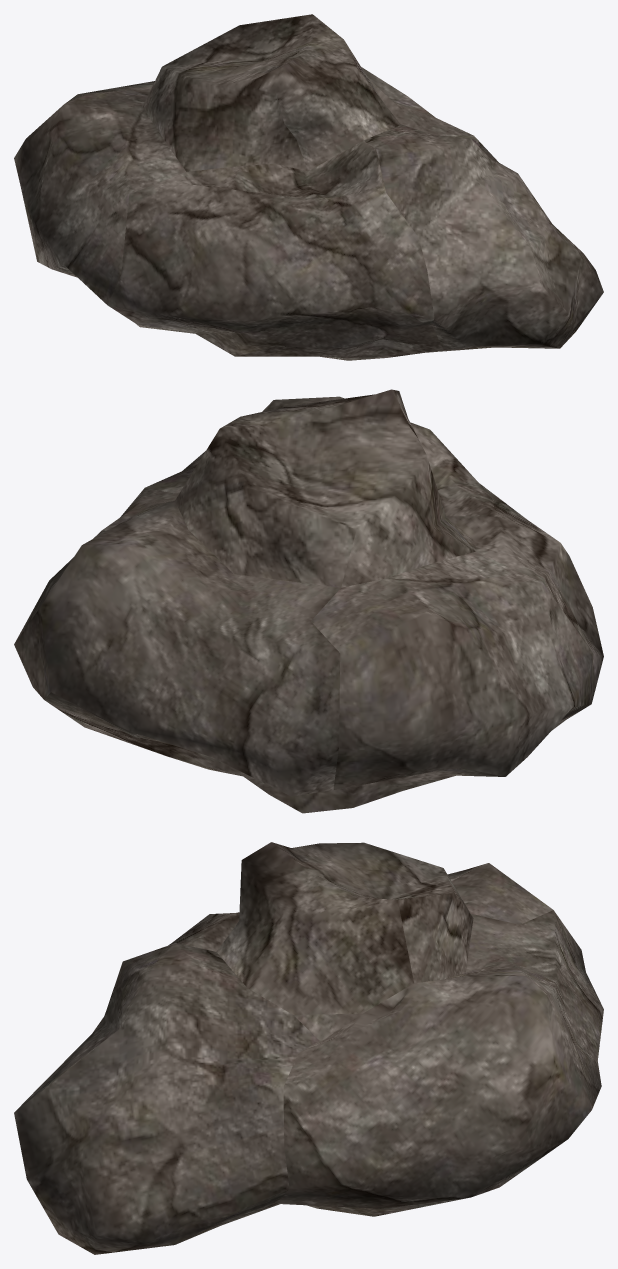
Rendered from Custom_Model_a6d83d-transformed.glb.
3 renders of one model, top to bottom at view 1: azimuth 30°, elevation 25°; view 2: azimuth 150°, elevation 25°; view 3: azimuth 270°, elevation 25°, orthographic. The views are drawn at different scales.
Visible parts, largest first — view 1: rock_05; view 2: rock_05; view 3: rock_05.
Part boxes in pixels (x1,y1,x2,y2): rock_05: (14, 14, 603, 360); rock_05: (14, 389, 603, 813); rock_05: (14, 842, 603, 1254).
Size of the model in its own units: 3.01 by 1.9 by 3.17.
Materials: 1 (1 with a texture image).
